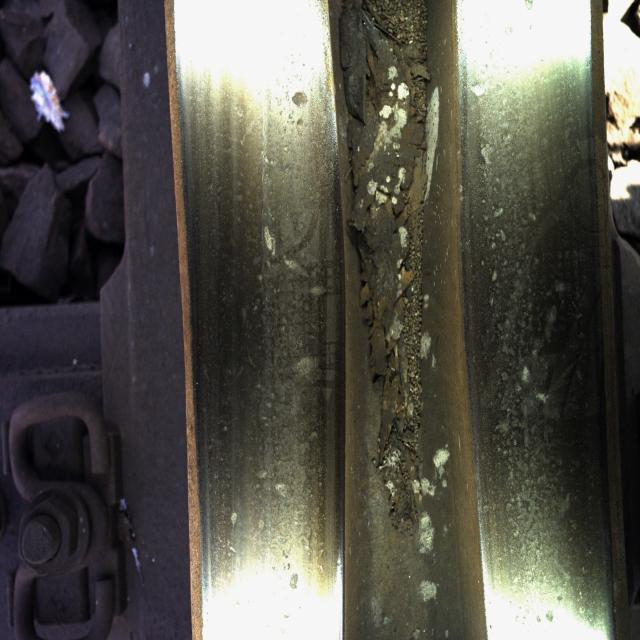scar: (467, 55, 595, 504), (239, 66, 331, 542)
